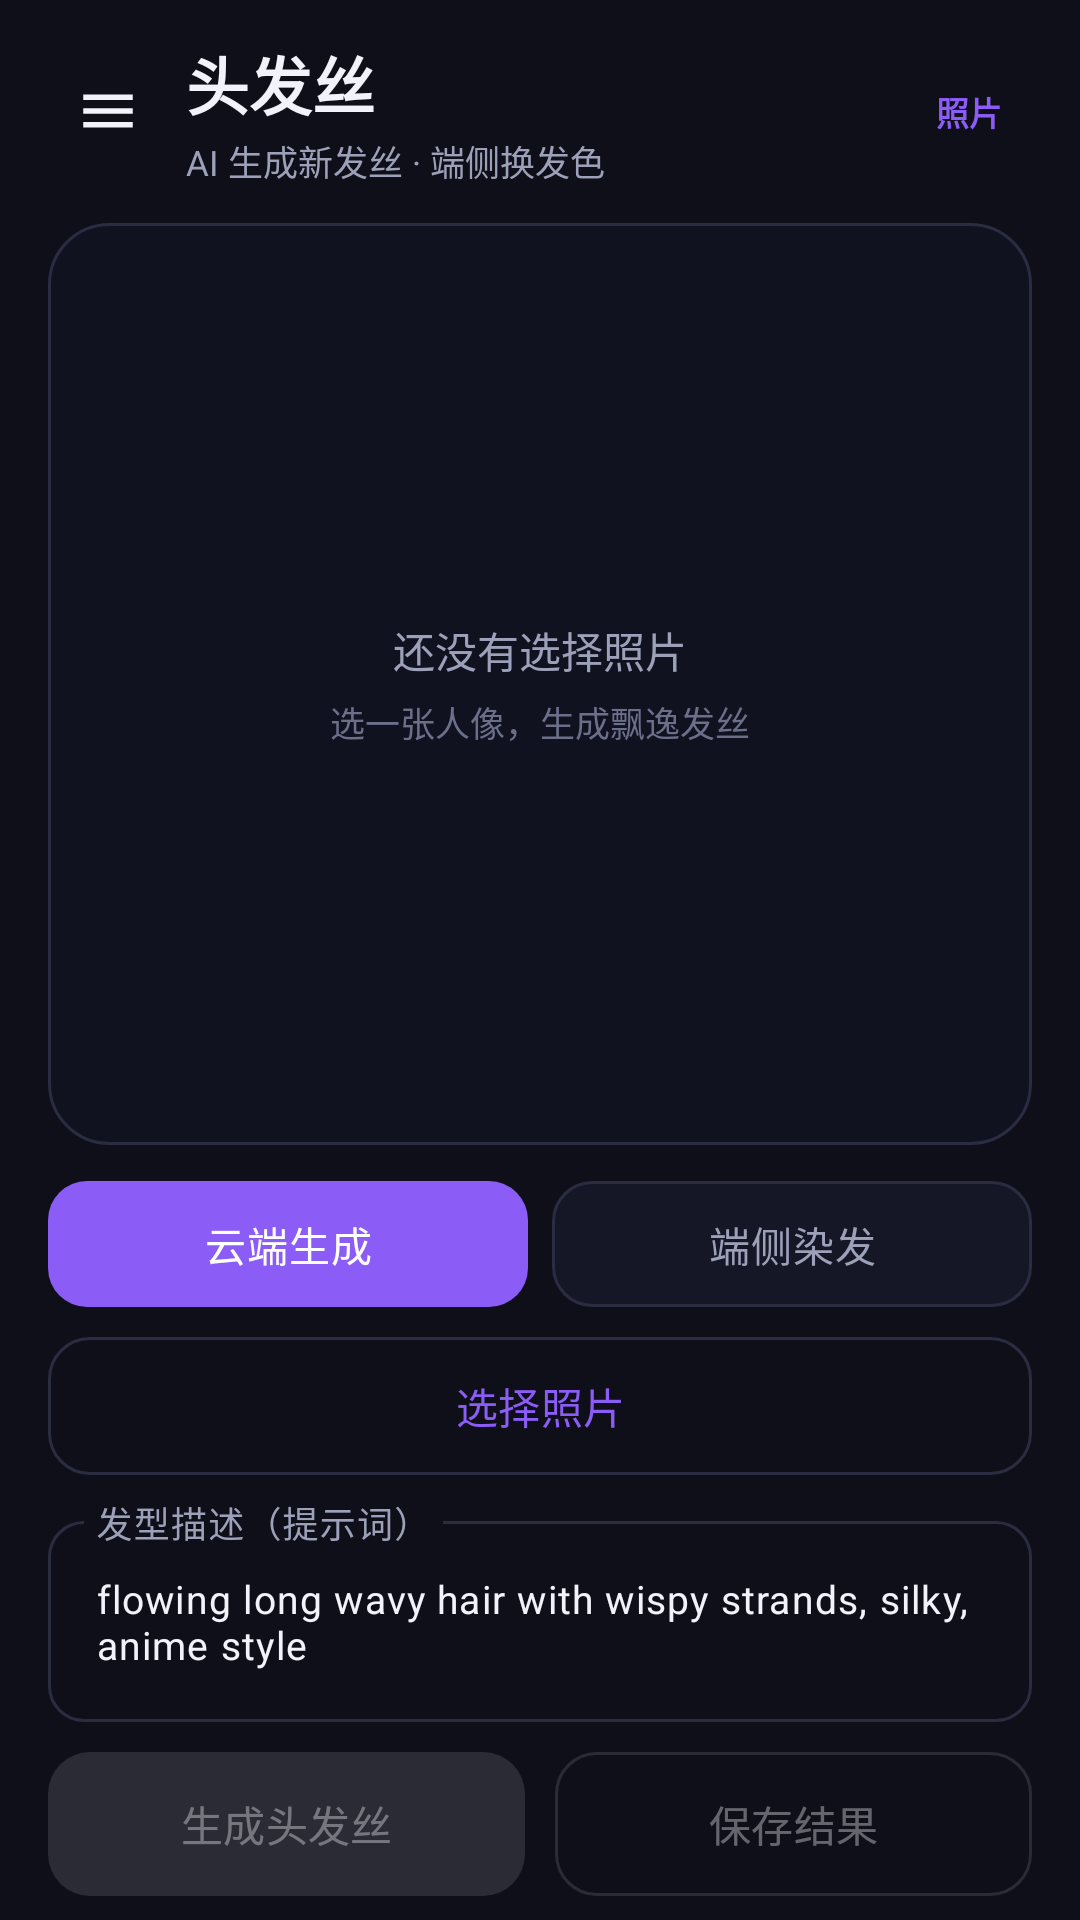

Locate icon controls on the screen. Image size 1080*1920, boxes as (x1, y1, x2, y2).
菜单: (83, 94, 133, 128)
